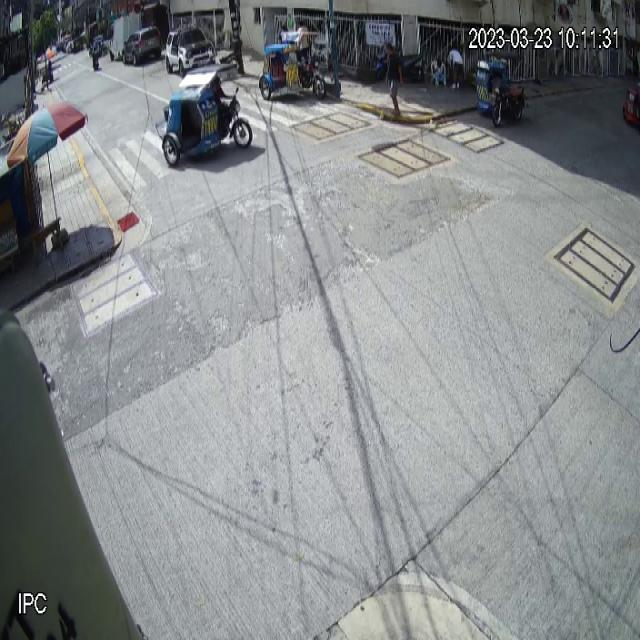Tricycle: (155, 64, 253, 166), (259, 30, 327, 100), (475, 51, 526, 129)
